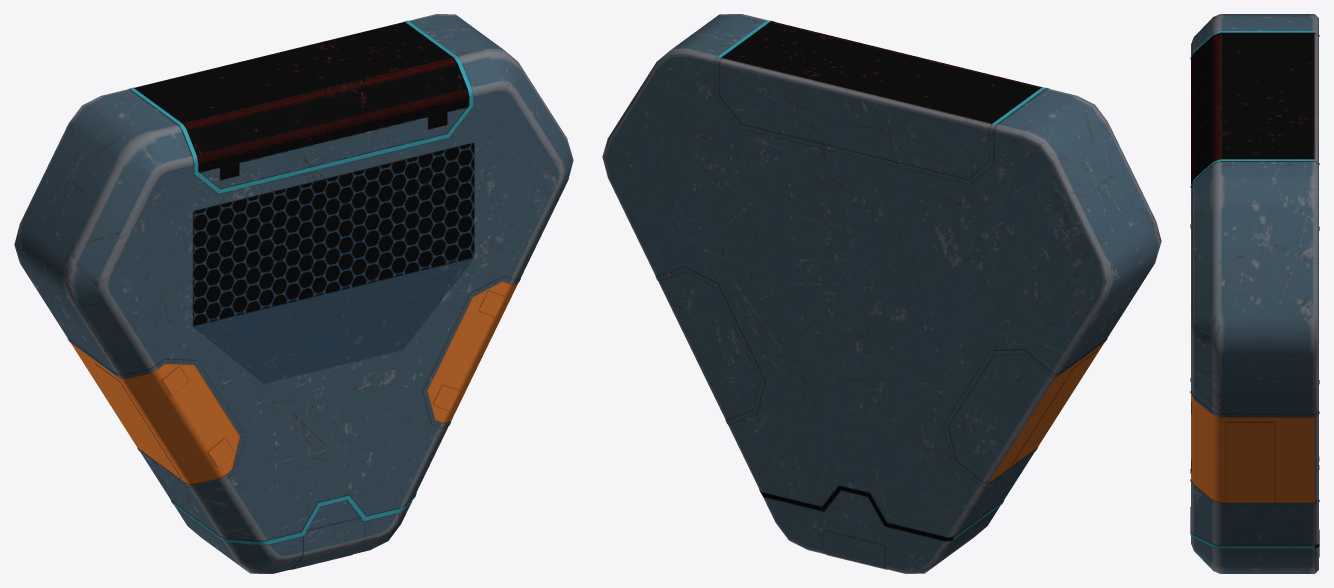
File: ContainerDoor1.fbx
The picture shows the model from 3 angles, left to right: view 1: azimuth 30°, elevation 25°; view 2: azimuth 150°, elevation 25°; view 3: azimuth 270°, elevation 25°; orthographic projection. The views are drawn at different scales.
Parts seen in each view (by area): view 1: ContainerDoor1; view 2: ContainerDoor1; view 3: ContainerDoor1.
Part boxes in pixels (x1,y1,x2,y2): ContainerDoor1: (14,14,573,573); ContainerDoor1: (602,14,1161,573); ContainerDoor1: (1190,14,1319,573).
Size of the model in its own units: 319 by 282 by 73.13.
